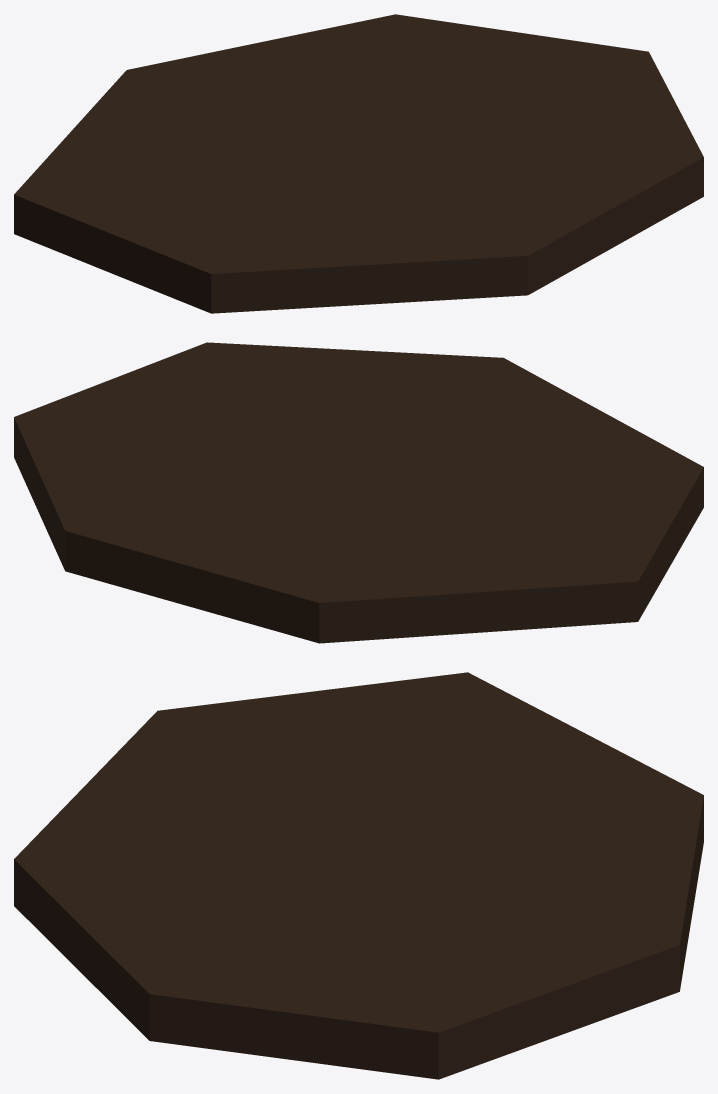
Rendered from toad-prop-crack-tile-4-idle.glb.
The picture shows the model from 3 angles, top to bottom: view 1: azimuth 30°, elevation 25°; view 2: azimuth 150°, elevation 25°; view 3: azimuth 270°, elevation 25°; orthographic projection. The views are drawn at different scales.
Visible parts, largest first — view 1: tile; view 2: tile; view 3: tile.
Boxes of the visible parts, x1,y1,x2,y2 form: tile: (14,14,703,313); tile: (14,342,703,643); tile: (14,672,703,1079).
Bounding box in the file's own units: 0.0989 × 0.006 × 0.08.
Materials: 1 (1 with a texture image).
